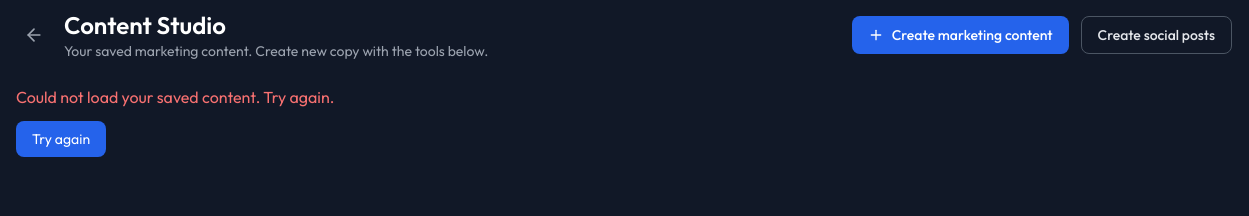
Content Studio saved library › distinguishes failure from an empty library and can retry
The image size is (1249, 216).
Expected: the message shows "Could not load", left=16, top=87, right=334, bottom=107
Click the button "Try again": click(61, 139) left=16, top=121, right=106, bottom=157
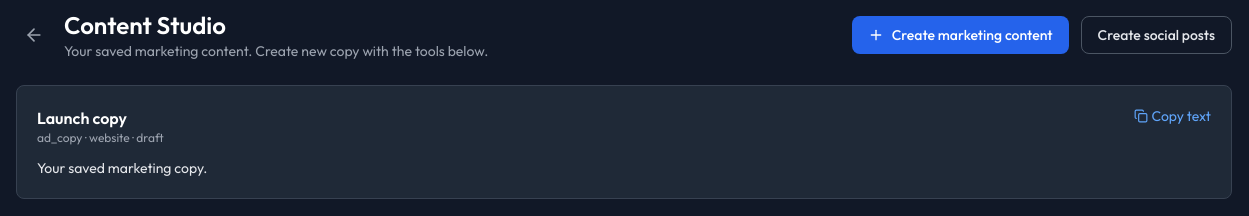
Expected: the text "Your saved marketing copy." is shown, left=37, top=159, right=207, bottom=177
